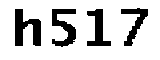1: (82, 6, 114, 51)
5: (47, 4, 82, 49)
7: (115, 4, 152, 51)
h: (2, 4, 45, 51)
